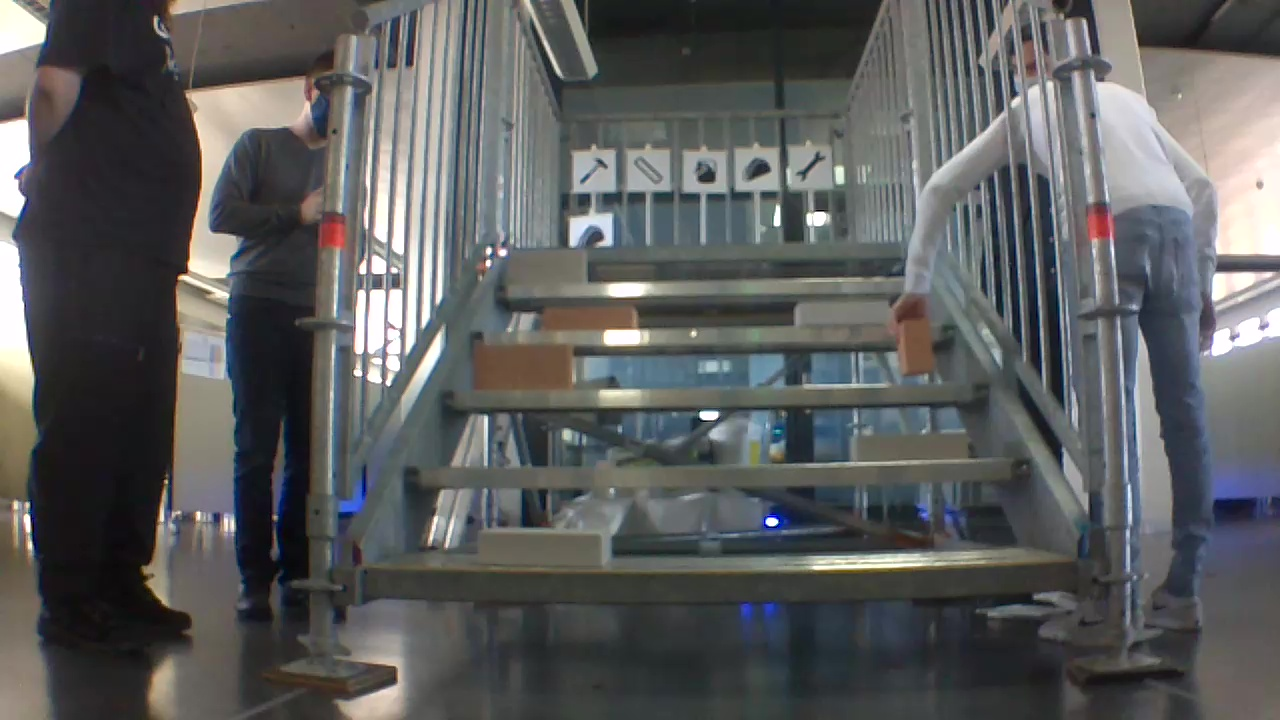brick: (481, 527, 610, 564), (476, 345, 570, 391), (856, 433, 966, 461), (511, 251, 586, 284), (795, 301, 889, 326), (546, 308, 634, 328), (900, 319, 932, 372)
bucket: (690, 154, 718, 186)
edge: (364, 562, 1074, 602), (401, 458, 1037, 486), (441, 383, 988, 408), (470, 327, 954, 346), (498, 278, 921, 299), (511, 243, 915, 262)
hammer: (576, 154, 611, 186)
ruler: (630, 154, 665, 188)
stairs: (261, 4, 1186, 695)
steps: (357, 232, 1079, 614)
taco: (742, 153, 774, 183), (574, 222, 608, 247)
wrench: (791, 148, 829, 184)
